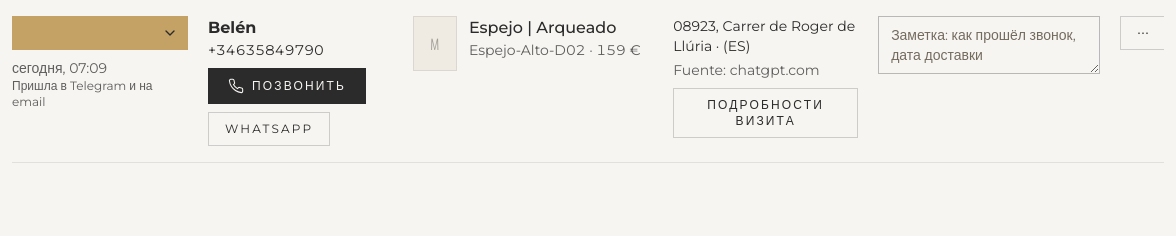
Test: Подробности визита › says plainly when the log of that day is gone
Click the button "Подробности визита".
click(766, 113)  # box [673,88,858,138]
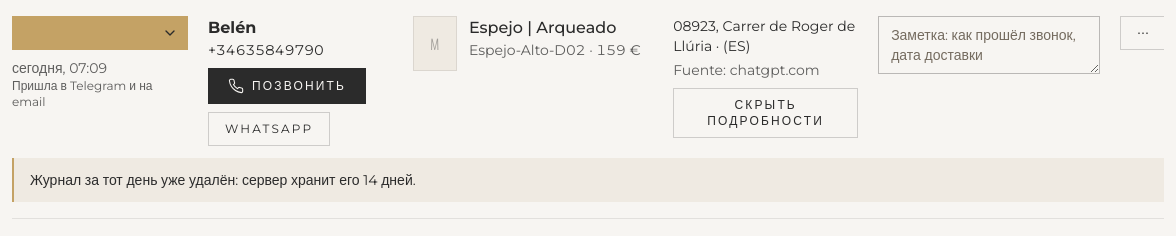
Now the text "Журнал за тот день уже удалён: сервер хранит его 14 дней." is shown, box [30,171,416,189]
